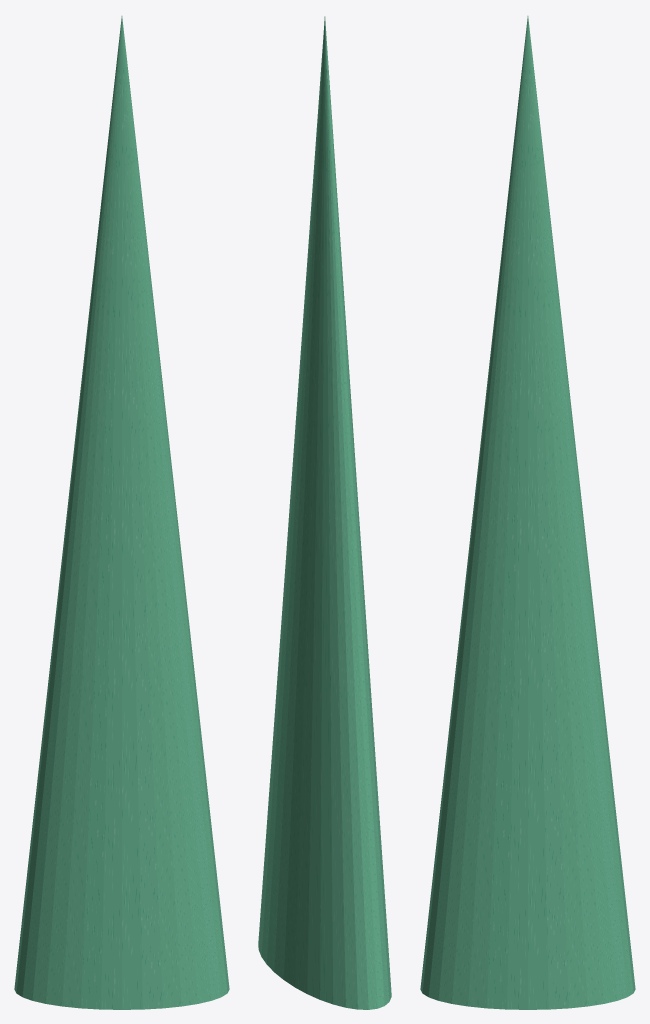
The model's file is grass.obj.
The picture shows the model from 3 angles, left to right: view 1: azimuth 90°, elevation 25°; view 2: azimuth 210°, elevation 25°; view 3: azimuth 270°, elevation 25°; orthographic projection. The views are drawn at different scales.
Parts seen in each view (by area): view 1: Cone; view 2: Cone; view 3: Cone.
Boxes of the visible parts, left/top/right/bottom form: Cone: left=14, top=16, right=229, bottom=1009; Cone: left=258, top=16, right=391, bottom=1009; Cone: left=420, top=16, right=635, bottom=1009.
Size of the model in its own units: 0.18 by 2 by 0.4.
